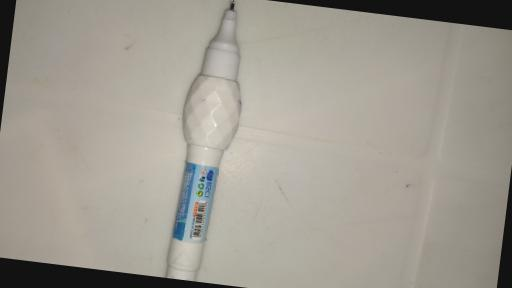Correction pen: (161, 0, 253, 284)
